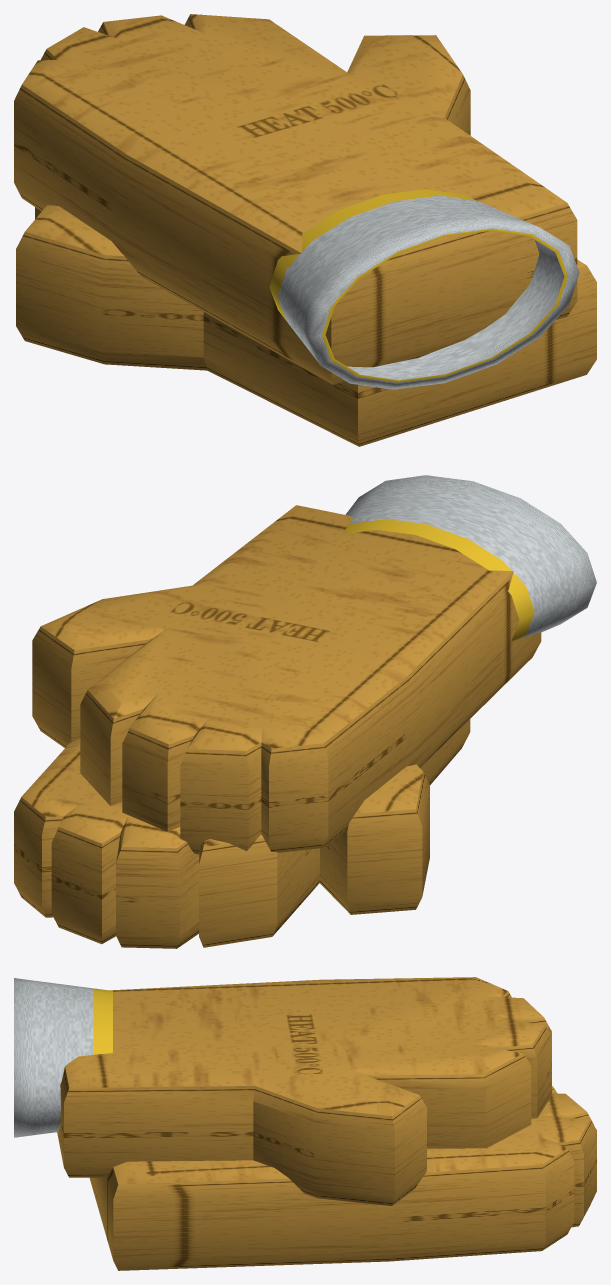
Rendered from gloves.obj.
3 renders of one model, top to bottom at view 1: azimuth 30°, elevation 25°; view 2: azimuth 150°, elevation 25°; view 3: azimuth 270°, elevation 25°, orthographic. The views are drawn at different scales.
Visible parts, largest first — view 1: gloves_0_surface; view 2: gloves_0_surface; view 3: gloves_0_surface.
Boxes of the visible parts, box(x1,y1,x2,y2) form: gloves_0_surface: box(14, 14, 596, 446); gloves_0_surface: box(14, 475, 596, 948); gloves_0_surface: box(14, 977, 596, 1270).
Size of the model in its own units: 0.1957 by 0.1111 by 0.2946.
Materials: 1 (1 with a texture image).
